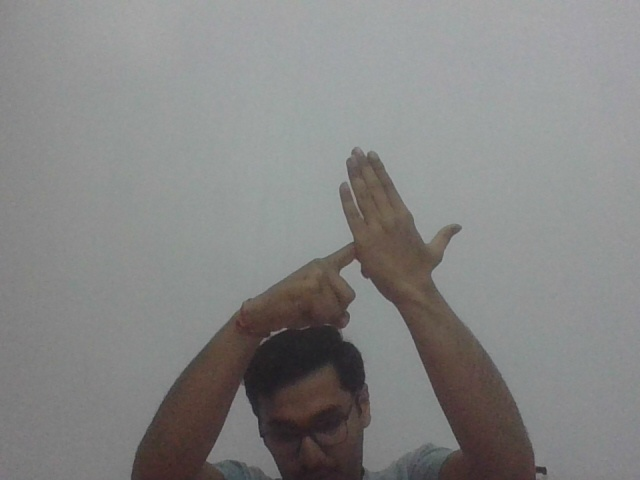R: (286, 147, 465, 324)
